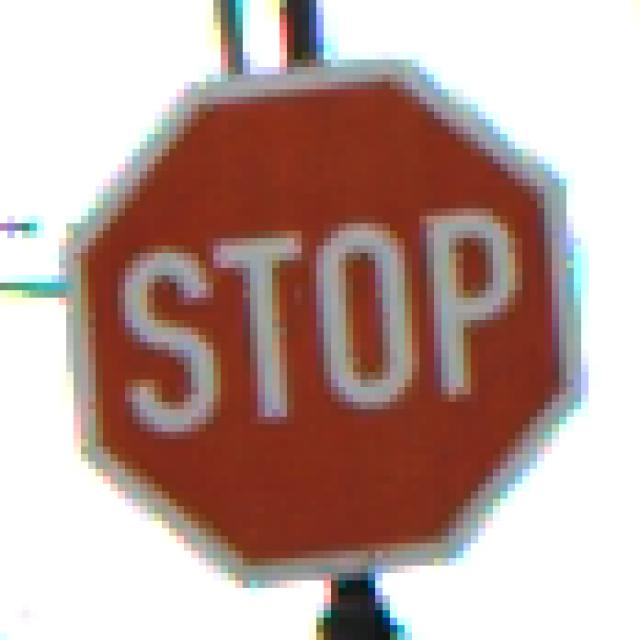STOP: (53, 53, 590, 589)
